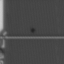dust: (30, 27, 36, 33)
